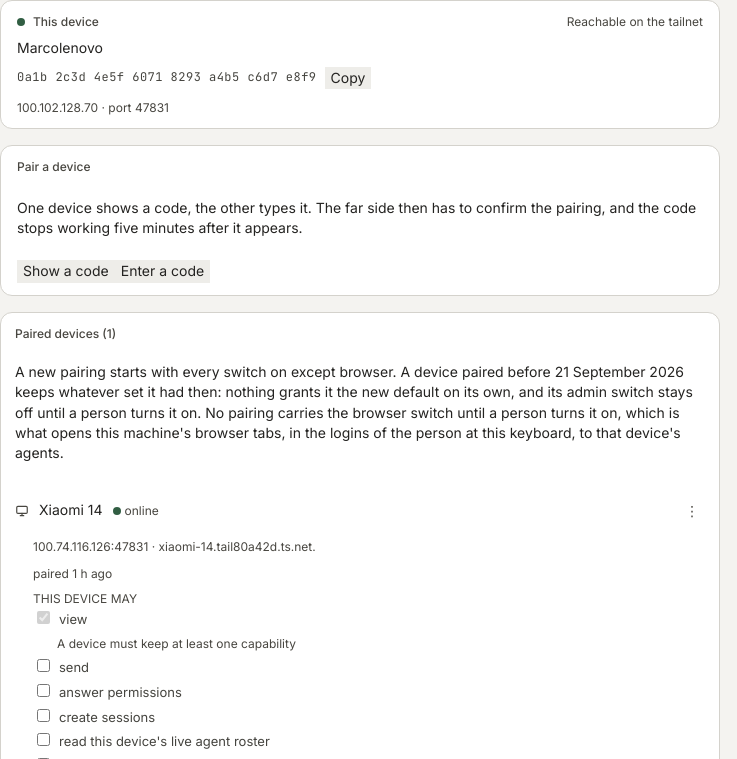
Test: devices panel › reverts a capability toggle when the daemon refuses it
The image size is (737, 759).
Click the checkbox labelled "send": click(44, 665) x1=37 y1=659 x2=50 y2=672
(page scrolled)
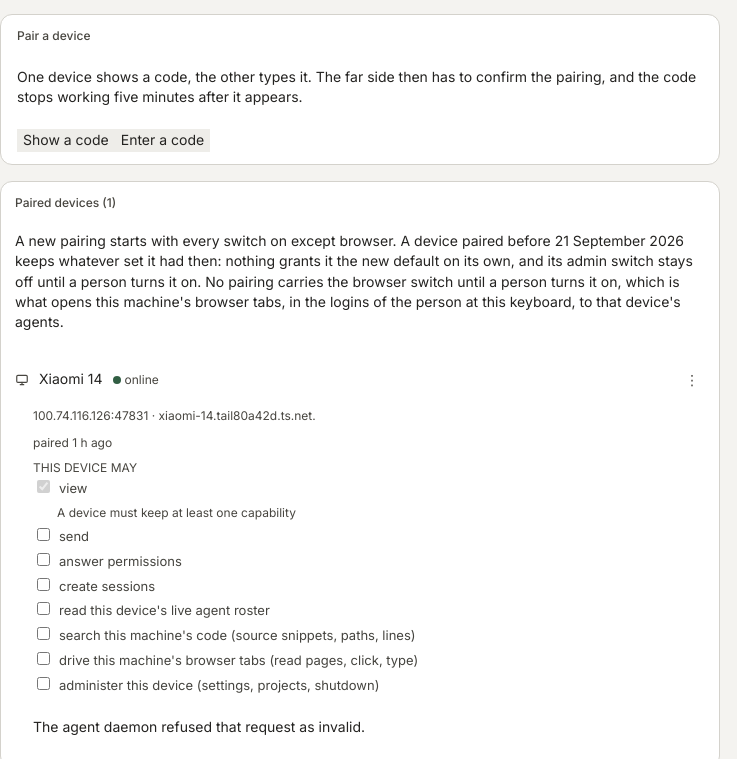
expect the checkbox labelled "send" is not checked: met, box x1=37 y1=528 x2=50 y2=541
expect the message with class "device-error" reads "The agent daemon refused that request as invalid.": met, box x1=33 y1=718 x2=365 y2=735
